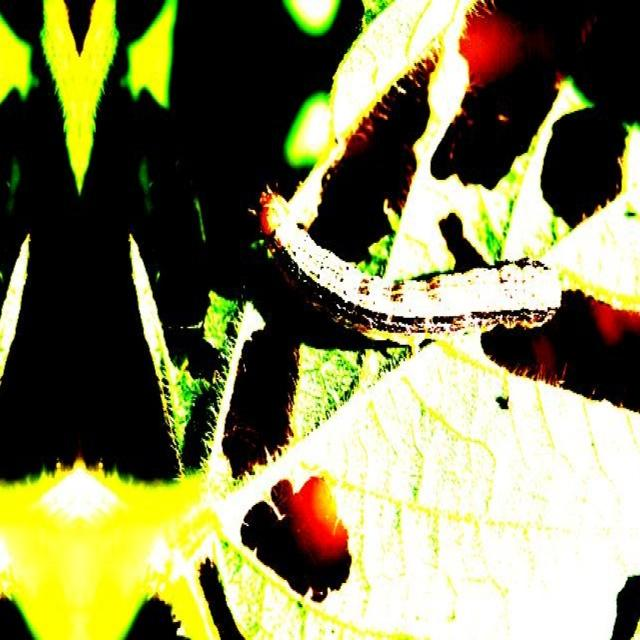Armyworm: (235, 153, 565, 390)
